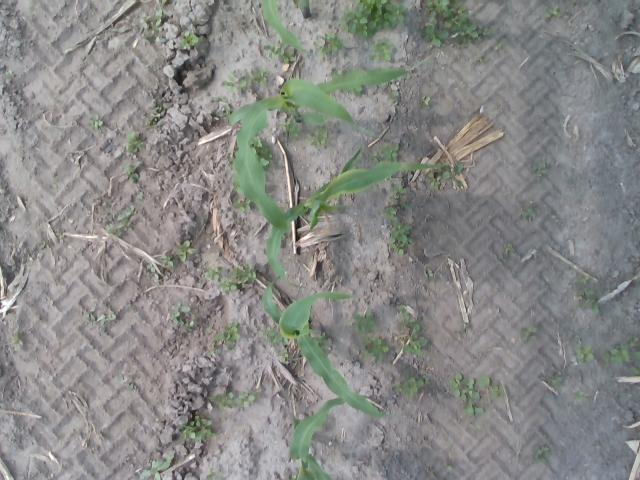Maize: (230, 68, 412, 230), (267, 146, 450, 288), (262, 274, 389, 419), (290, 394, 380, 480), (258, 1, 322, 57)
Weeds: (422, 1, 478, 48), (342, 0, 406, 37), (212, 320, 240, 349), (393, 376, 429, 396), (478, 376, 508, 400), (402, 334, 428, 359), (140, 461, 170, 480), (371, 39, 393, 63), (442, 164, 466, 186), (466, 388, 485, 414), (220, 78, 247, 96), (353, 312, 377, 332), (175, 241, 197, 262), (370, 338, 390, 360), (128, 132, 148, 153), (392, 219, 411, 241), (238, 263, 258, 283), (574, 344, 596, 362), (320, 34, 340, 53), (576, 296, 598, 313), (118, 205, 134, 228), (125, 163, 144, 182), (310, 128, 328, 148), (604, 349, 630, 362), (264, 41, 284, 57), (205, 266, 223, 283), (397, 303, 410, 326), (180, 32, 199, 46), (222, 392, 238, 408), (530, 163, 548, 177), (520, 327, 538, 340), (384, 144, 399, 159), (222, 280, 238, 294), (268, 330, 282, 346), (195, 429, 215, 440), (98, 314, 116, 326), (160, 254, 178, 266), (149, 19, 163, 34), (240, 394, 256, 407), (251, 70, 268, 82), (208, 468, 225, 480), (407, 326, 421, 340), (450, 374, 464, 388), (536, 445, 550, 459), (184, 426, 196, 442), (190, 415, 207, 426), (386, 206, 399, 220), (10, 332, 23, 346), (90, 115, 102, 130), (278, 54, 298, 63), (234, 199, 249, 211), (574, 392, 590, 402), (258, 326, 271, 338), (181, 320, 194, 332), (217, 105, 231, 116), (454, 387, 468, 398), (176, 302, 190, 313), (170, 312, 182, 324), (394, 186, 406, 198), (577, 288, 595, 296), (85, 308, 96, 321), (522, 208, 536, 218), (363, 337, 371, 354), (316, 333, 328, 344), (629, 336, 640, 347), (284, 122, 296, 132), (412, 316, 422, 328), (210, 392, 220, 404), (390, 243, 406, 250), (548, 376, 562, 384), (261, 146, 272, 156), (505, 244, 516, 254), (164, 452, 175, 462), (548, 6, 560, 15), (466, 378, 475, 390), (106, 224, 116, 234), (147, 262, 156, 273), (426, 172, 434, 184), (253, 139, 264, 147), (432, 180, 441, 189), (140, 18, 148, 28), (372, 152, 380, 162), (149, 114, 162, 120), (278, 354, 289, 361), (156, 10, 165, 18), (446, 463, 456, 470), (156, 0, 167, 6), (422, 96, 430, 104), (482, 28, 490, 36), (632, 366, 640, 374), (578, 277, 588, 283), (203, 420, 213, 426), (136, 192, 144, 199), (392, 92, 398, 100), (428, 270, 434, 278), (496, 43, 502, 50), (6, 70, 13, 76), (635, 352, 640, 360), (463, 323, 469, 329), (478, 58, 485, 62)
